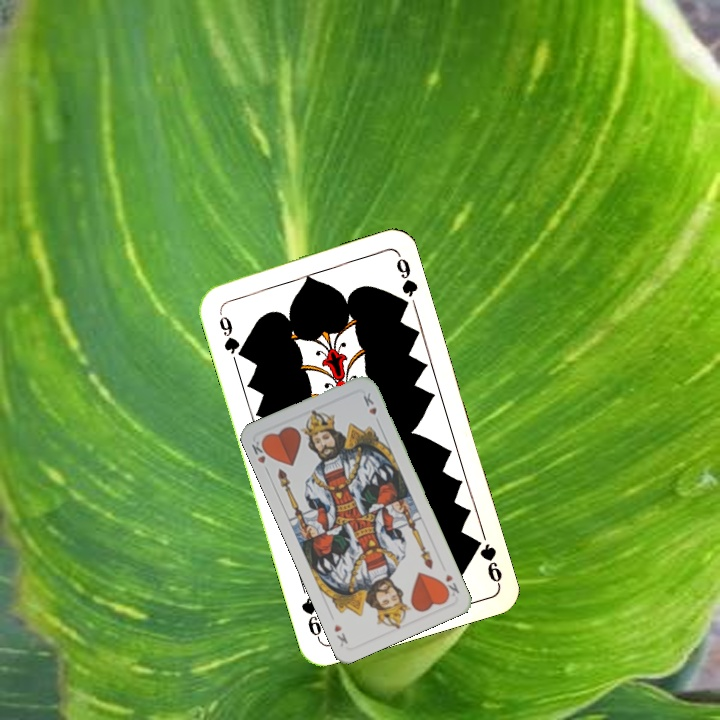G9: (467, 533, 505, 587), (214, 306, 247, 361)
HK: (247, 436, 273, 476), (437, 570, 462, 600)
